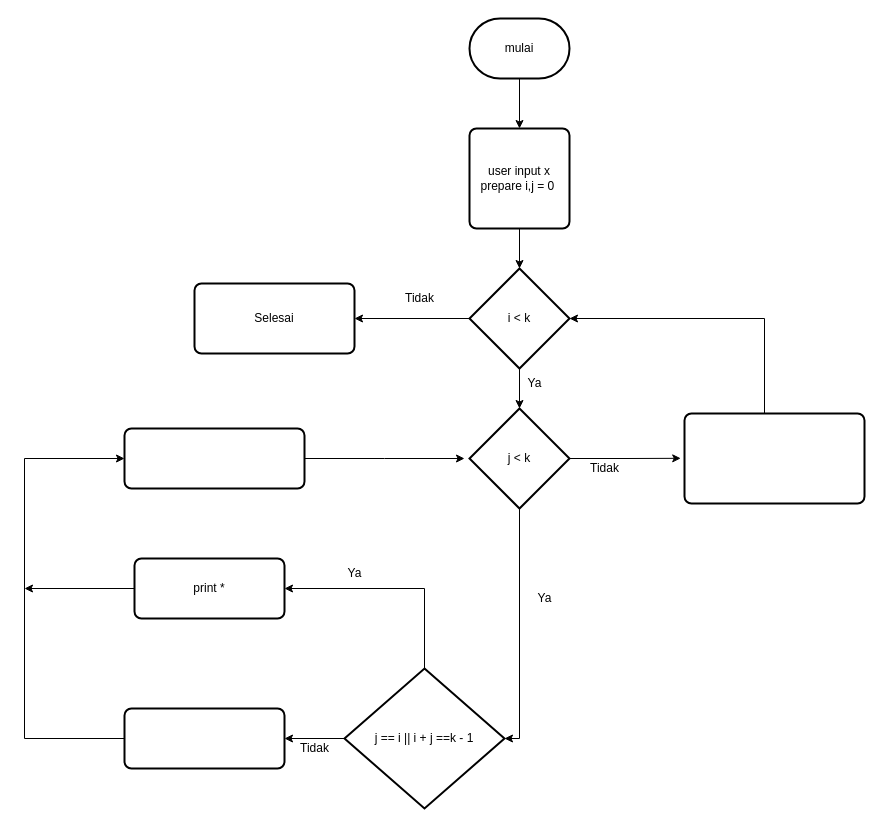
Image size: 883x826. Some labels were removed from this diagram. Each missing label, with the box of its shape:
i ++ j = 0 print \n: (683, 412, 865, 504)
j ++: (123, 427, 305, 489)
print "\b": (123, 707, 285, 769)
